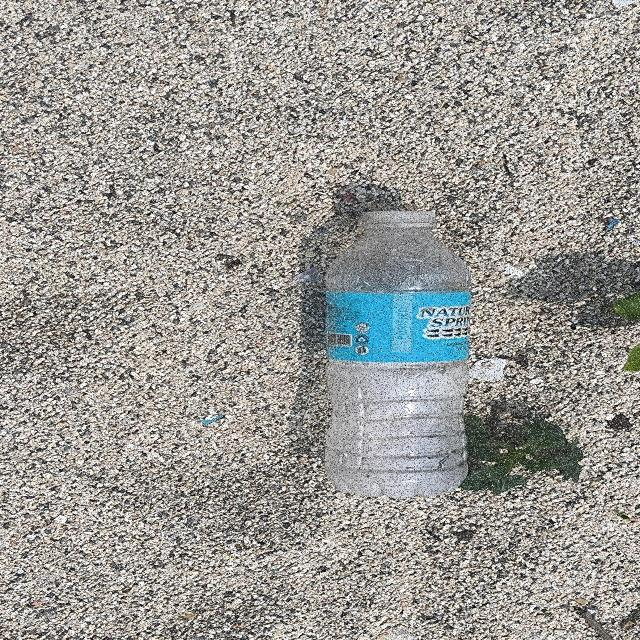plastic_waste: (326, 215, 473, 500)
